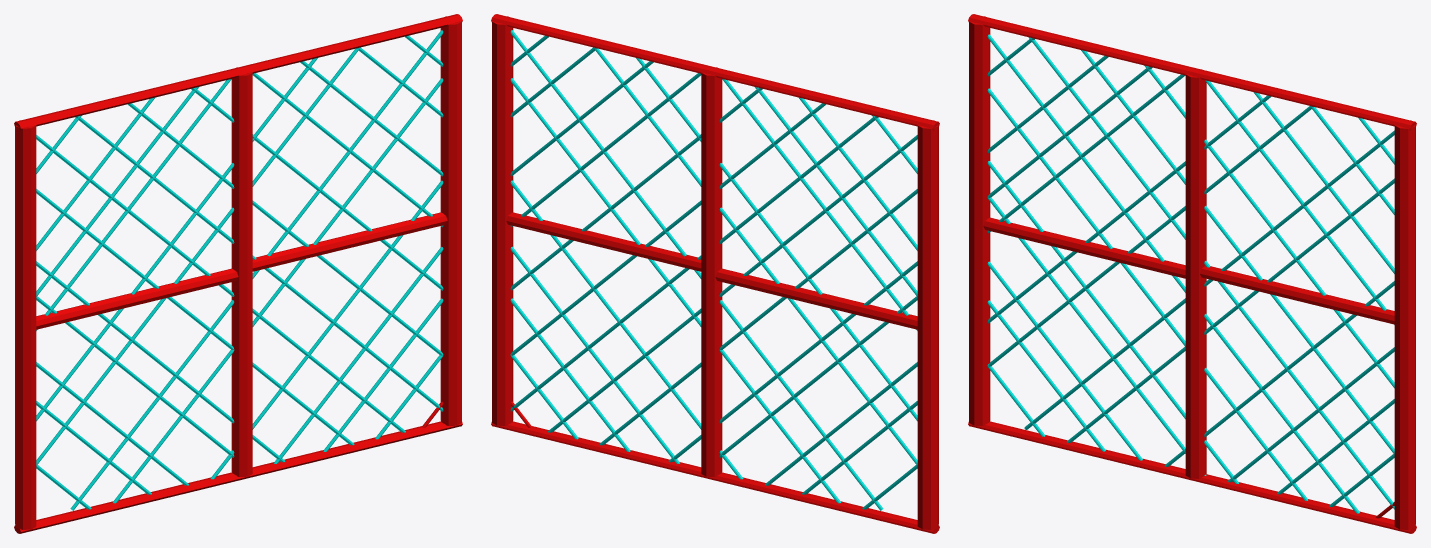
Rendered from FenceModel2.fbx.
3 views of the same model, side by side, from view 1: azimuth 30°, elevation 25°; view 2: azimuth 150°, elevation 25°; view 3: azimuth 330°, elevation 25° (orthographic).
Parts seen in each view (by area): view 1: pCube204; view 2: pCube204; view 3: pCube204.
Part boxes in pixels (x1,y1,x2,y2): pCube204: (14,14,462,533); pCube204: (491,14,939,533); pCube204: (968,14,1416,533).
Bounding box in the file's own units: 11.18 × 9.87 × 0.4789.
